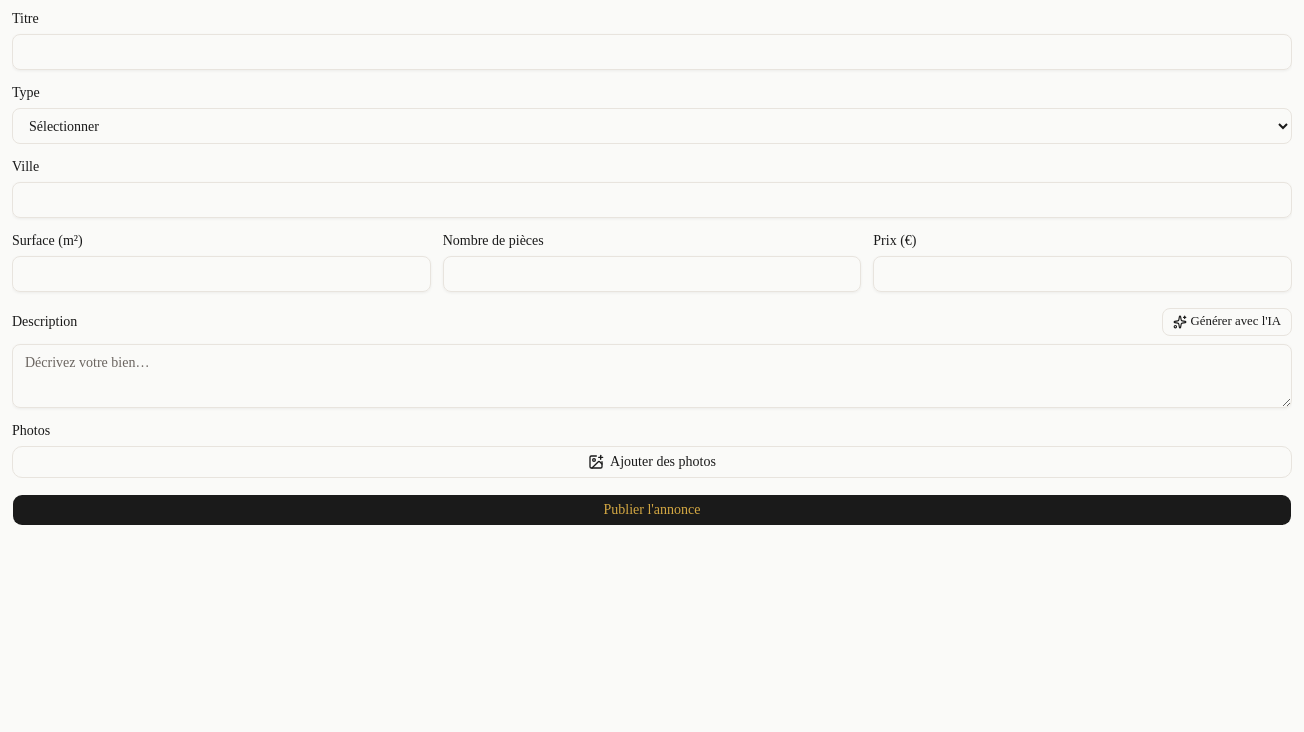
<ListingForm> › displays the error message returned by the action
Step 1. Type "Bel appartement" into the field labelled "Titre" → (652, 52), box [12, 34, 1292, 70]
Step 2. Select "Appartement" in the dropdown labelled "Type" → (652, 126), box [12, 108, 1292, 144]
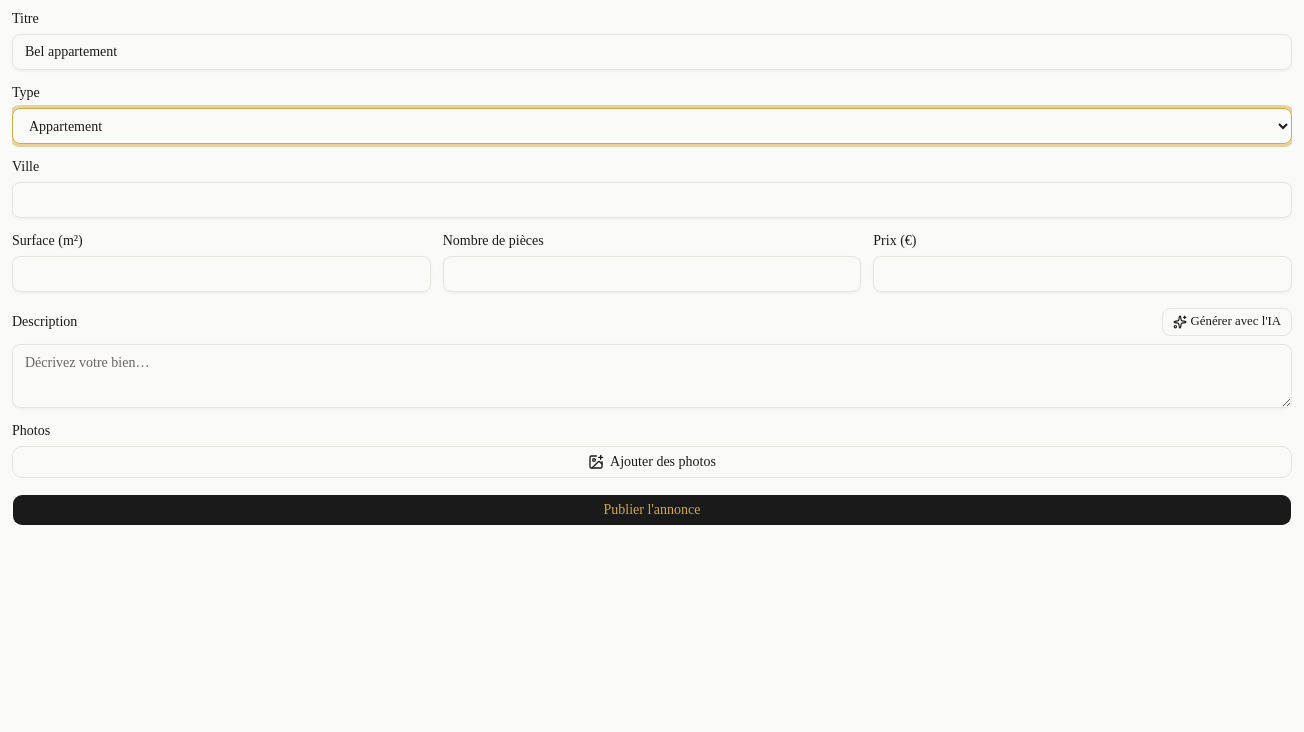
Step 3. Type "Nantes" into the field labelled "Ville" → (652, 200), box [12, 182, 1292, 218]
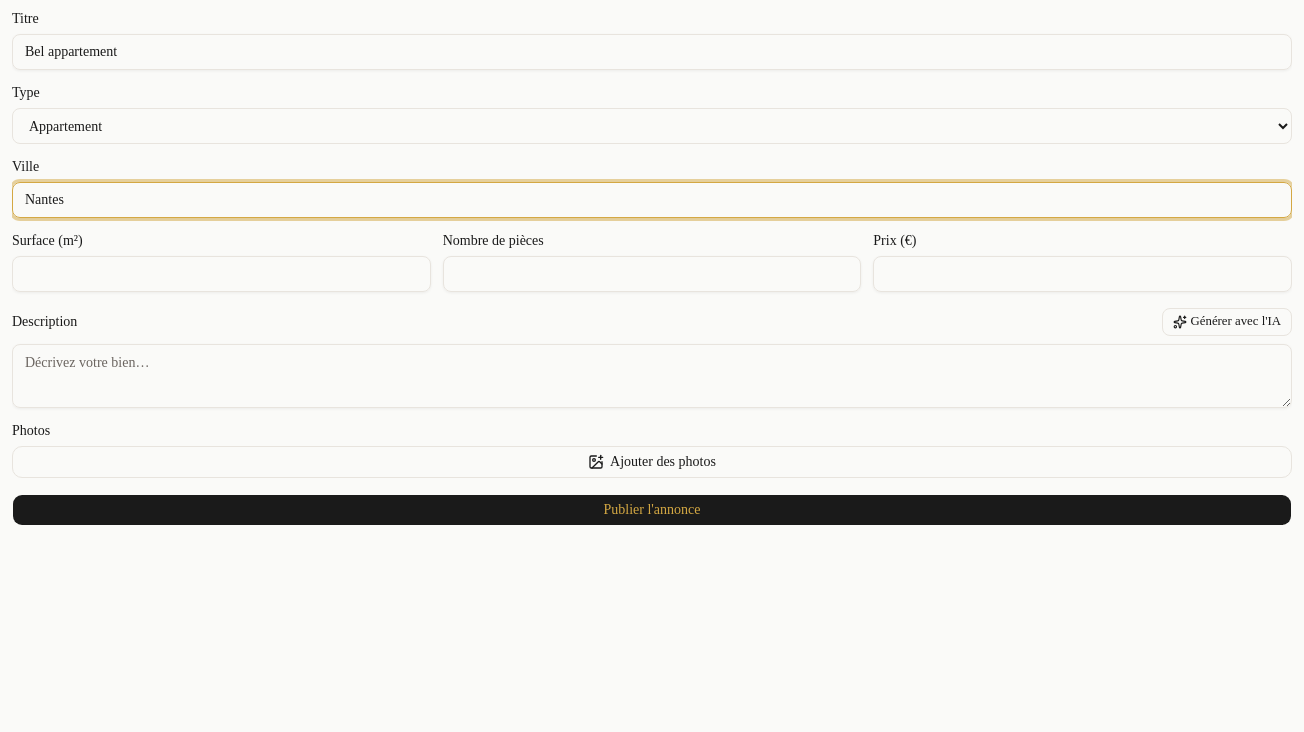
Step 4. Type "65" into the number field labelled "Surface (m²)" → (221, 274), box [12, 256, 431, 292]
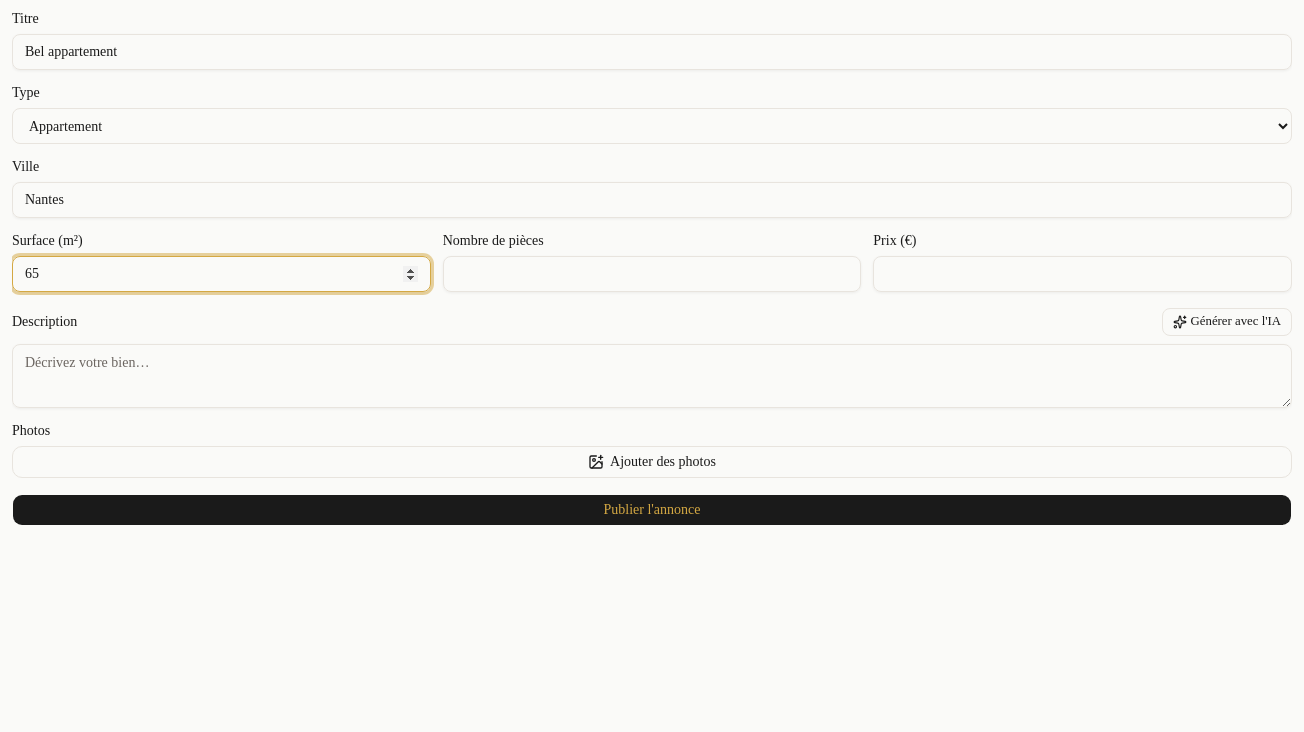
Step 5. Type "3" into the number field labelled "Nombre de pièces" → (652, 274), box [443, 256, 861, 292]
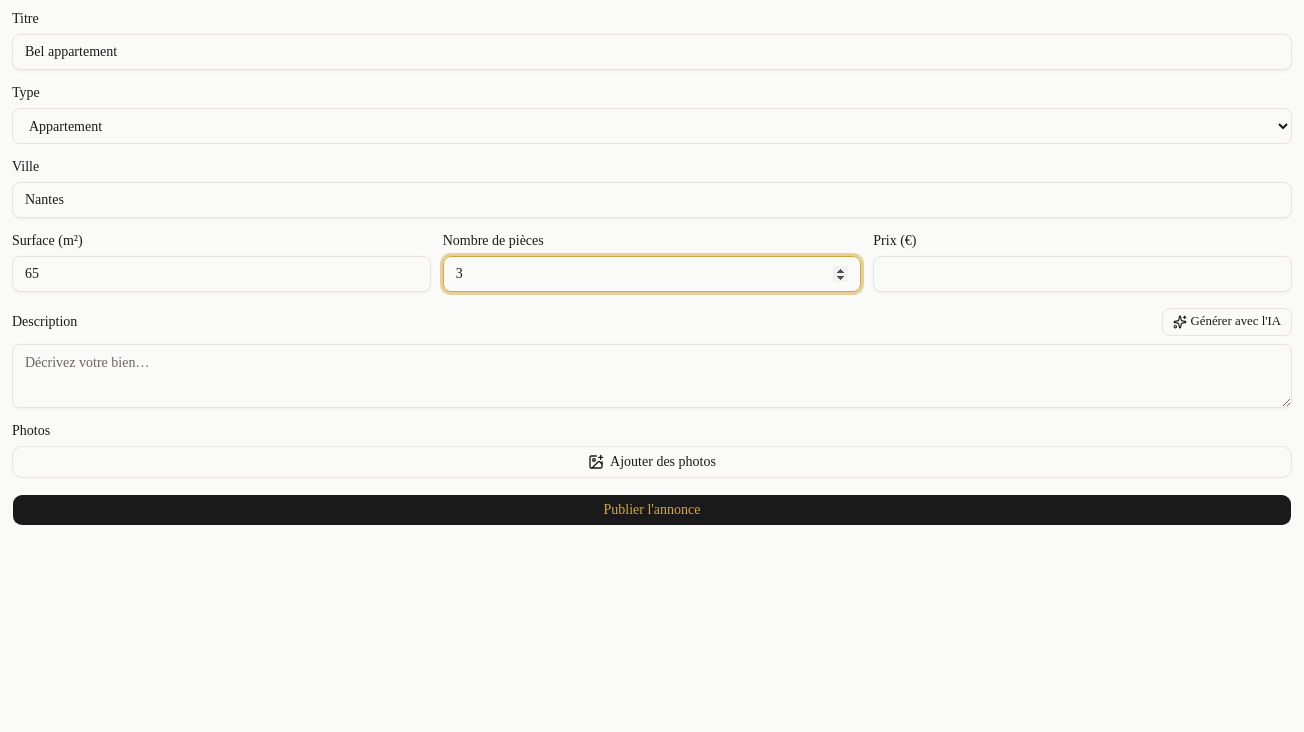
Step 6. Type "250000" into the number field labelled "Prix (€)" → (1083, 274), box [873, 256, 1292, 292]
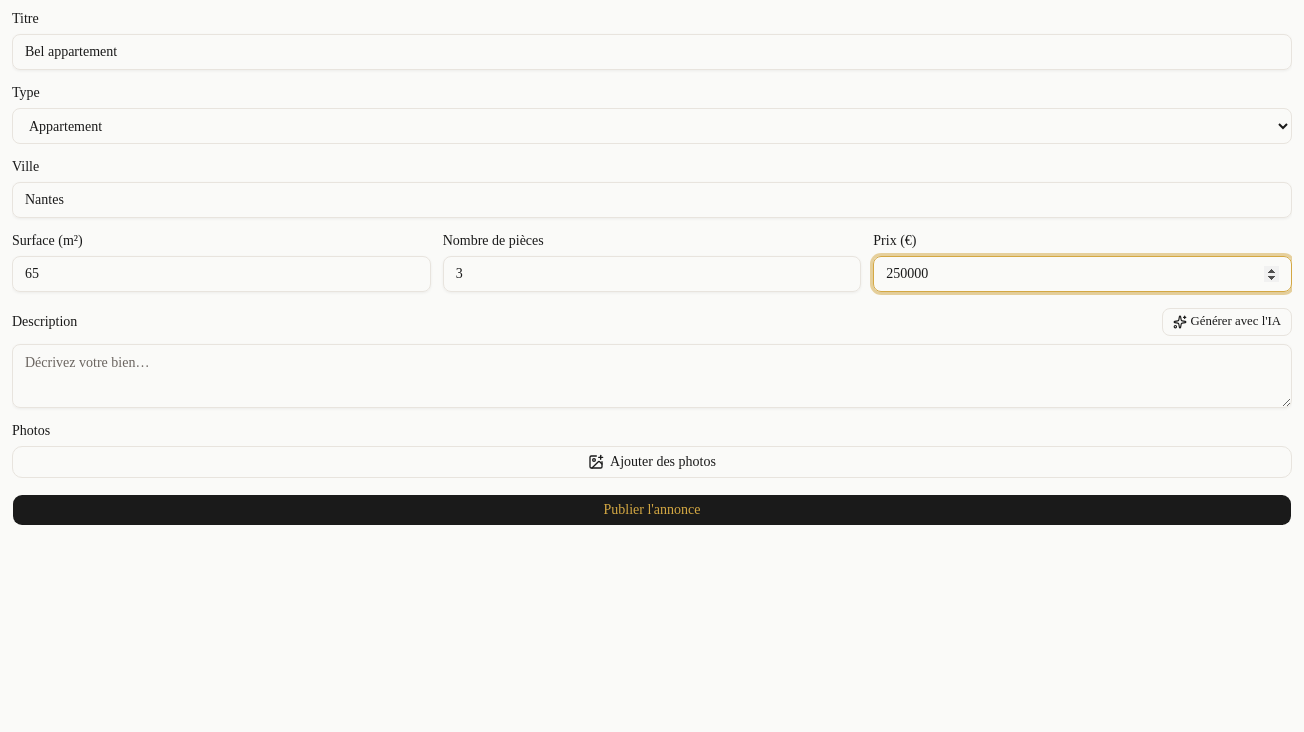
Step 7. Click the button "Publier l'annonce" → click(652, 510), box [12, 494, 1292, 526]
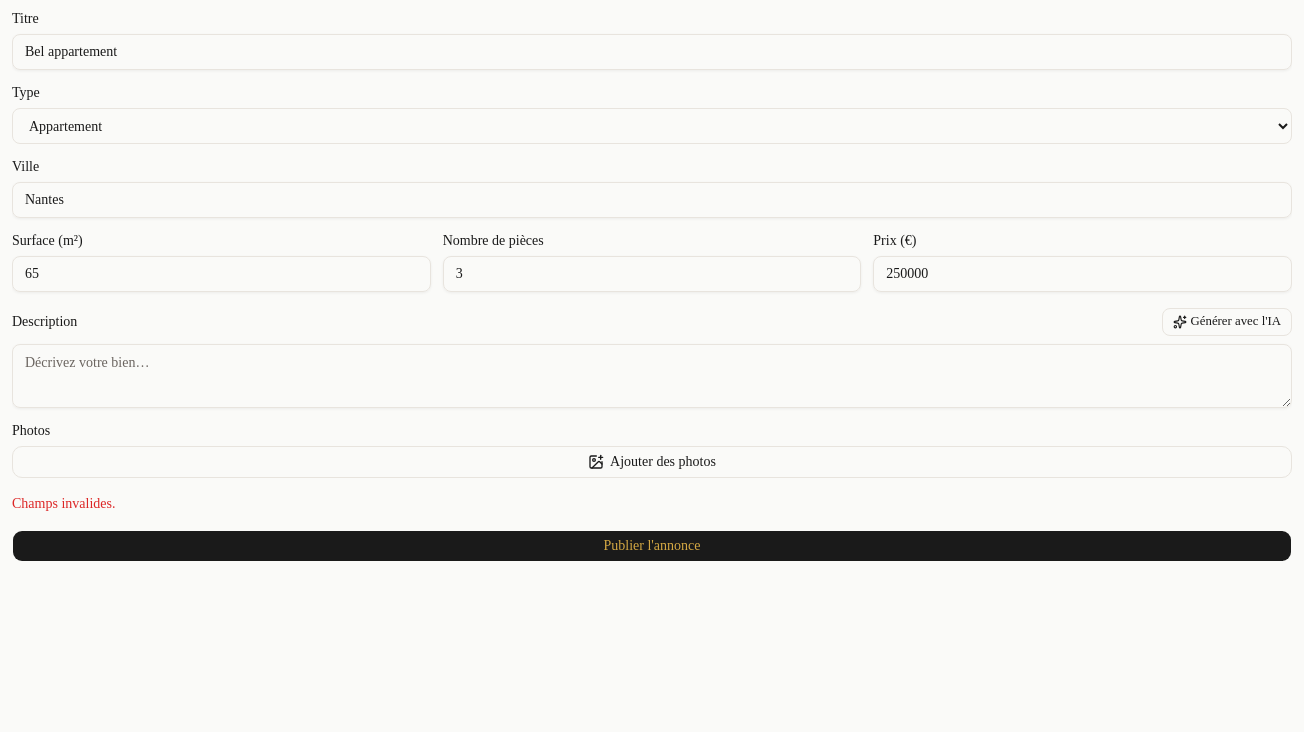
Expected: the message reads "Champs invalides.", [12, 496, 115, 511]
